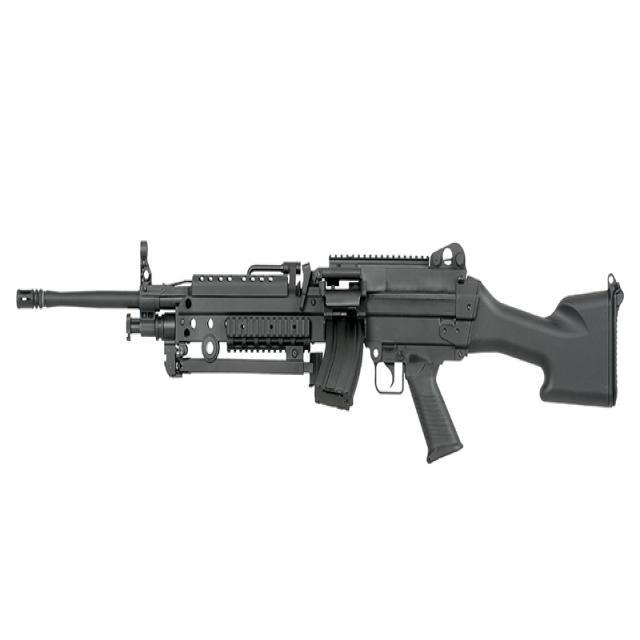weapon: (16, 239, 624, 466)
